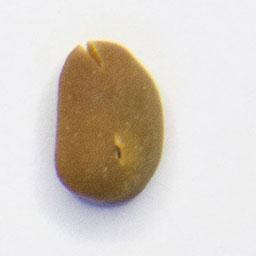defect: (52, 38, 167, 207)
